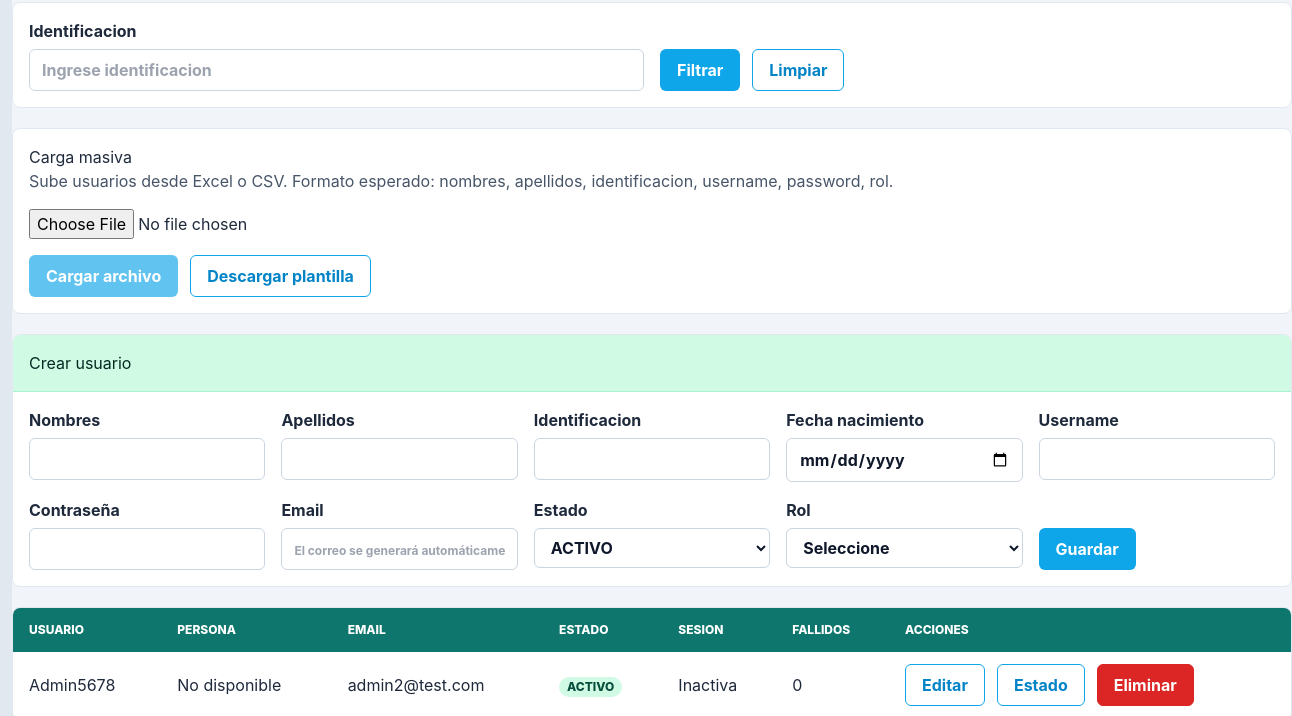
Test: UsuariosPage › muestra mensaje claro si ADMIN selecciona otro ADMIN
(page scrolled)
Step 1. Click the button "Editar" → x=945, y=685, box x1=905 y1=664 x2=985 y2=706
(page scrolled)
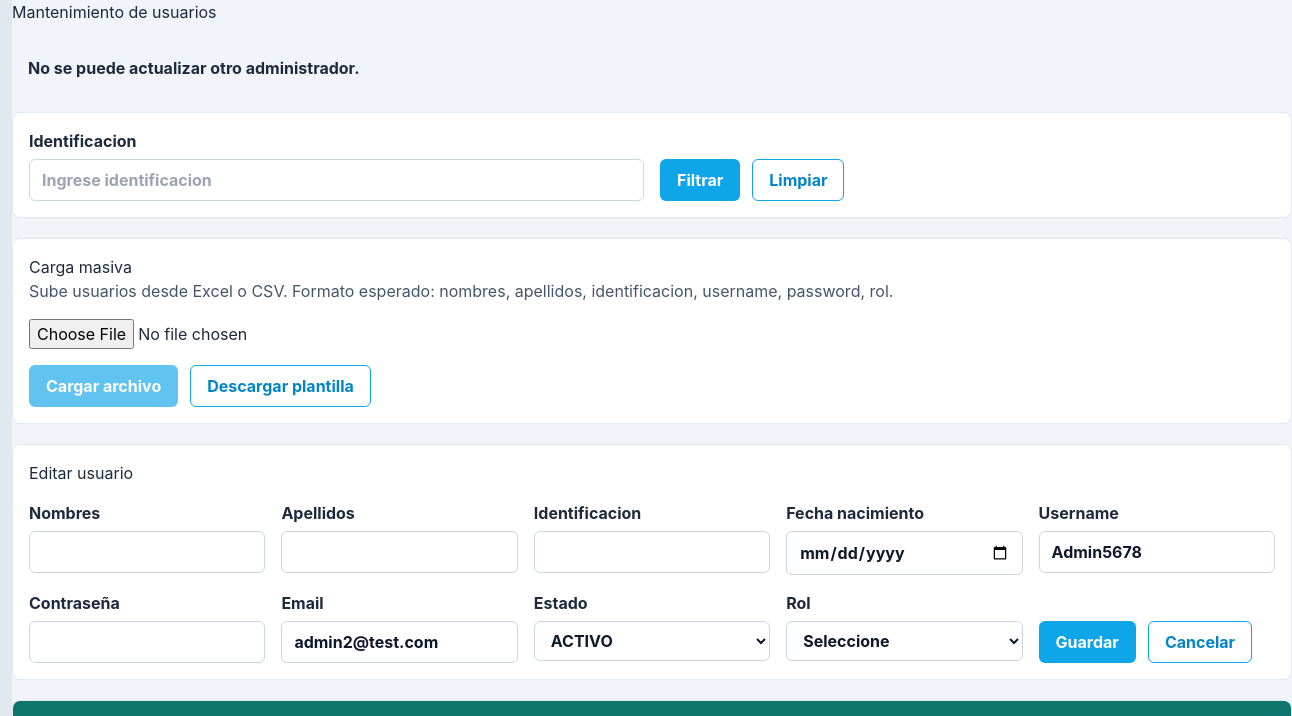
Expected: the text "No se puede actualizar otro administrador." is shown, x1=28 y1=58 x2=360 y2=78
